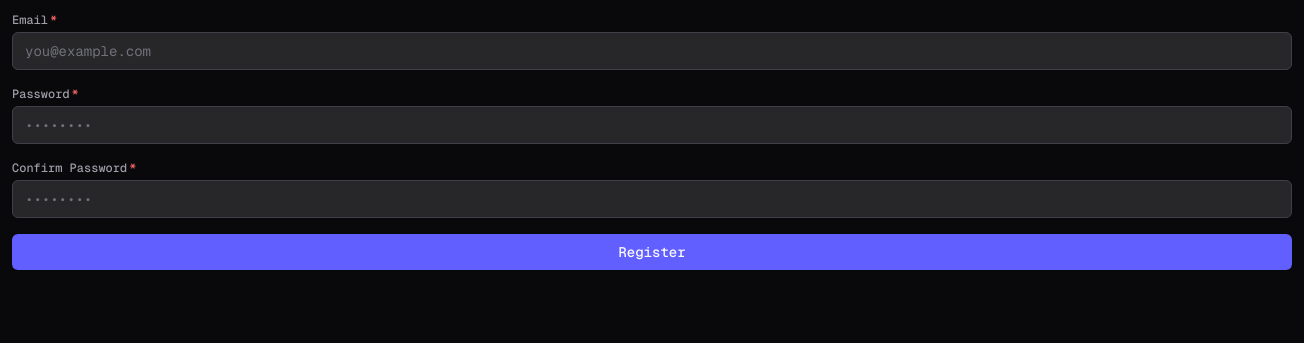
RegisterForm › shows error when password has no uppercase letter
Type "test@test.com" into the field labelled "Email*".
click(652, 51); type("test@test.com")  # box left=12, top=32, right=1292, bottom=70
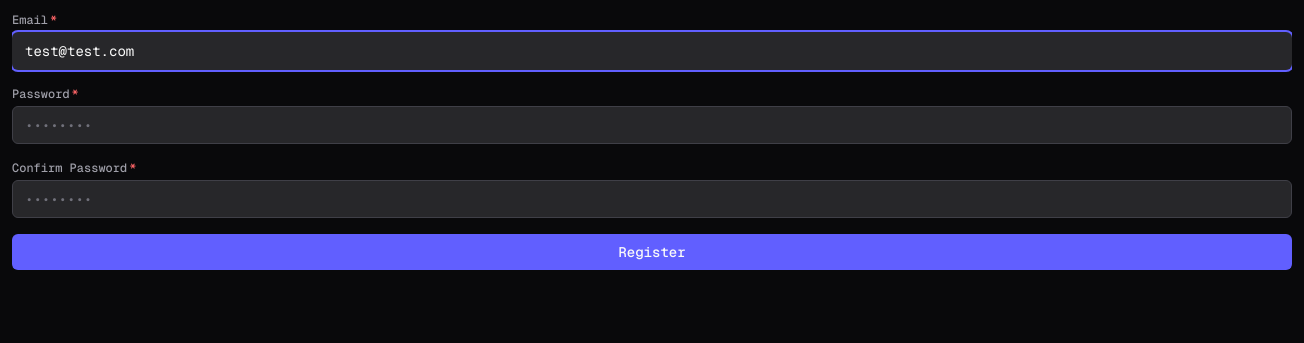
Type "password1!" into the password field labelled "Password*".
click(652, 125); type("password1!")  # box left=12, top=106, right=1292, bottom=144
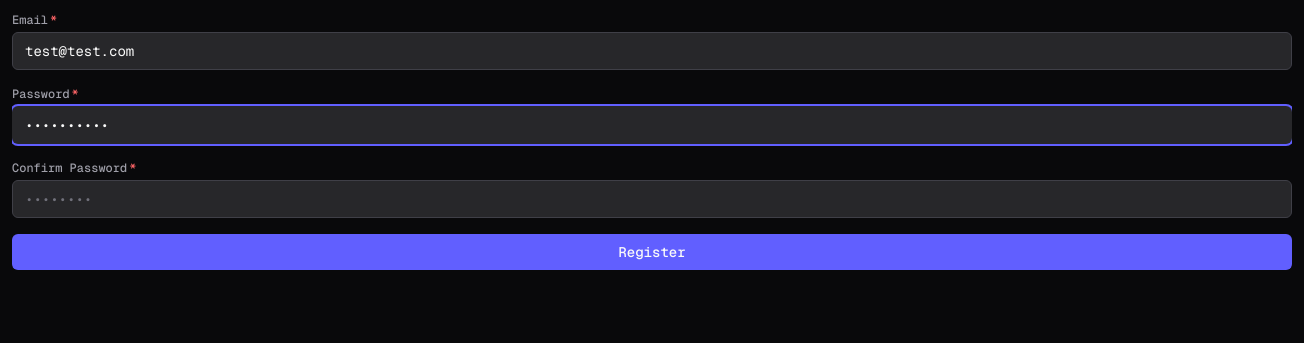
Type "password1!" into the password field labelled "Confirm Password*".
click(652, 199); type("password1!")  # box left=12, top=180, right=1292, bottom=218
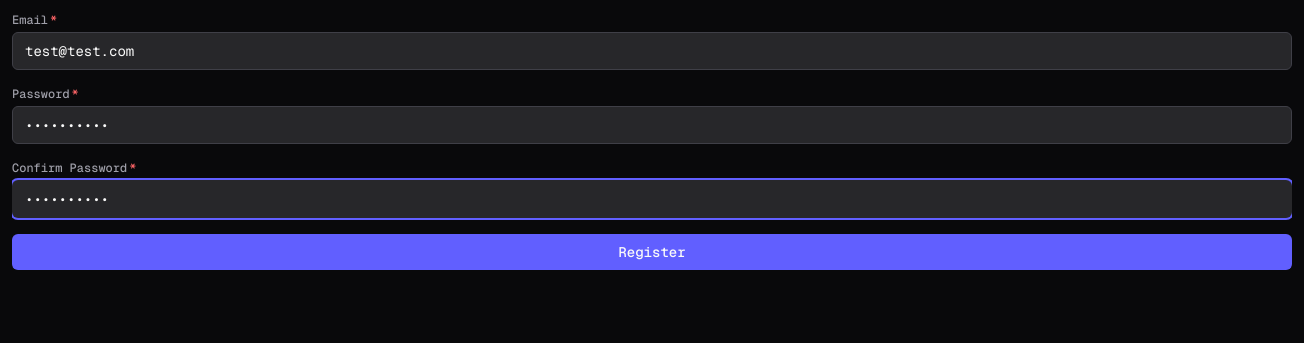
Click the button "Register".
click(652, 252)  # box left=12, top=234, right=1292, bottom=270
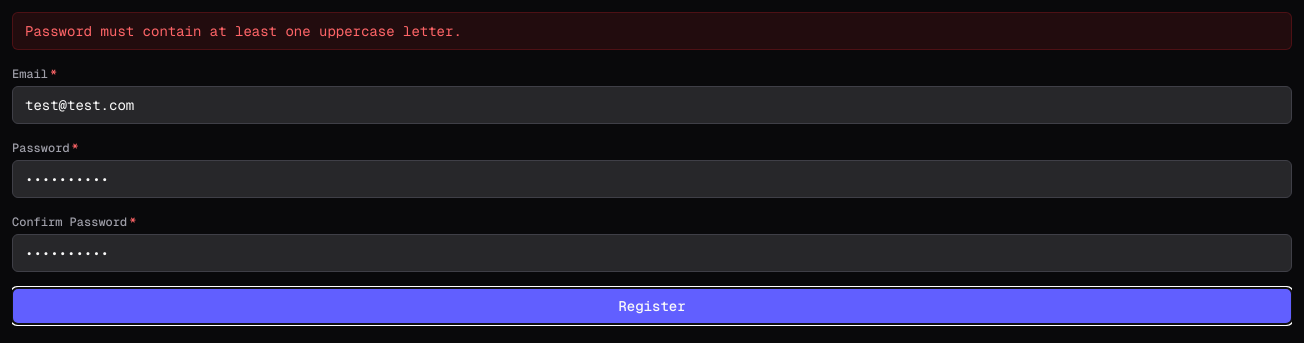
Result: the text "Password must contain at least one uppercase letter." is shown at left=12, top=12, right=1292, bottom=50
